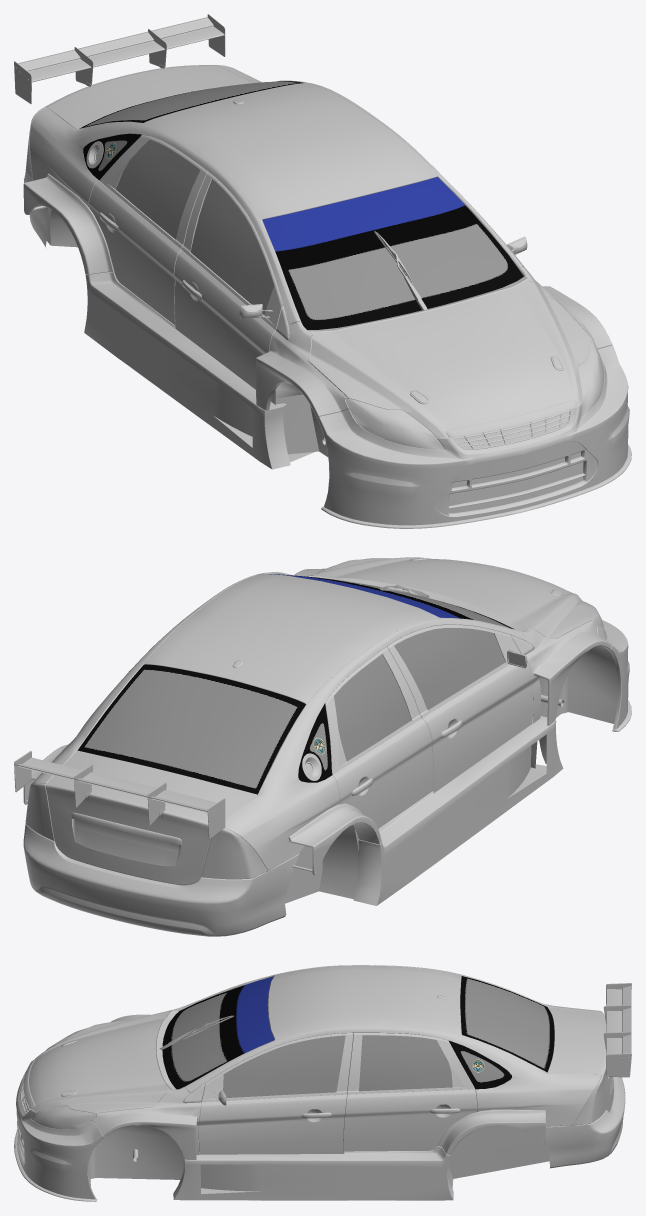
File: FocE.FBX
The picture shows the model from 3 angles, top to bottom: view 1: azimuth 30°, elevation 25°; view 2: azimuth 150°, elevation 25°; view 3: azimuth 270°, elevation 25°; orthographic projection. The views are drawn at different scales.
Visible parts, largest first — view 1: FocE_Carbody, FocE_Hood, FocE_Front; view 2: FocE_Carbody, FocE_Bumper, FocE_Hood, FocE_Front; view 3: FocE_Carbody, FocE_Hood, FocE_Front, FocE_Bumper.
Part boxes in pixels (left/top/right/bottom): FocE_Carbody: left=14, top=14, right=612, bottom=469; FocE_Hood: left=308, top=280, right=591, bottom=437; FocE_Front: left=317, top=345, right=631, bottom=528; FocE_Carbody: left=14, top=558, right=618, bottom=905; FocE_Bumper: left=23, top=824, right=299, bottom=936; FocE_Hood: left=311, top=557, right=591, bottom=638; FocE_Front: left=597, top=620, right=631, bottom=731; FocE_Carbody: left=20, top=965, right=631, bottom=1200; FocE_Hood: left=23, top=1011, right=170, bottom=1113; FocE_Front: left=14, top=1070, right=104, bottom=1201; FocE_Bumper: left=545, top=1077, right=625, bottom=1168.
Size of what is drawn, in the model's own units: 194 by 130 by 466.
